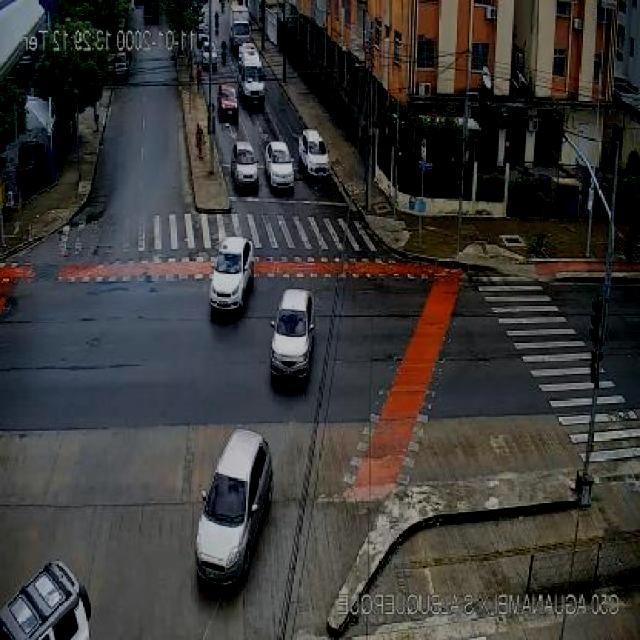Car: (268, 292, 324, 384), (208, 237, 258, 310), (230, 134, 258, 196), (300, 128, 336, 174), (268, 140, 298, 192), (218, 81, 241, 116)
Truck: (239, 44, 271, 111), (232, 8, 252, 44)
Van: (192, 430, 276, 586)
